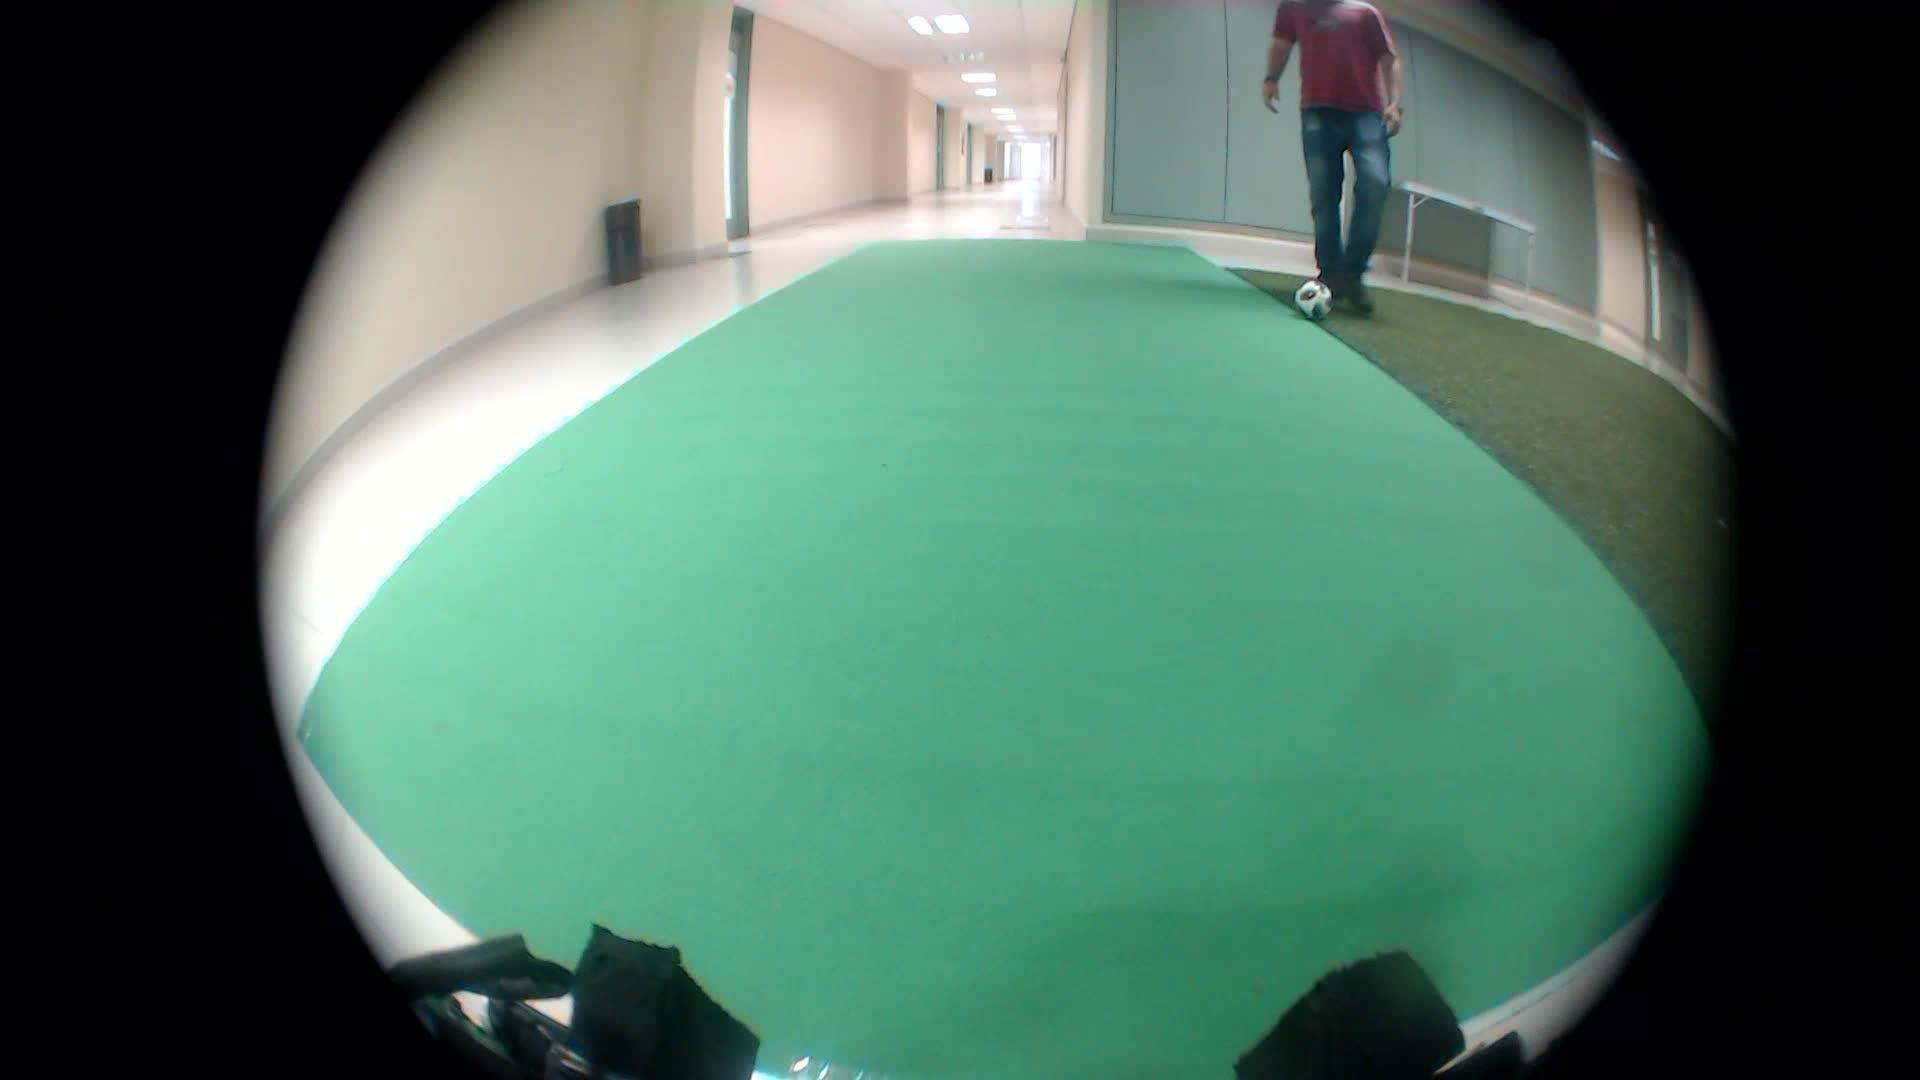ball: (1292, 266, 1342, 324)
